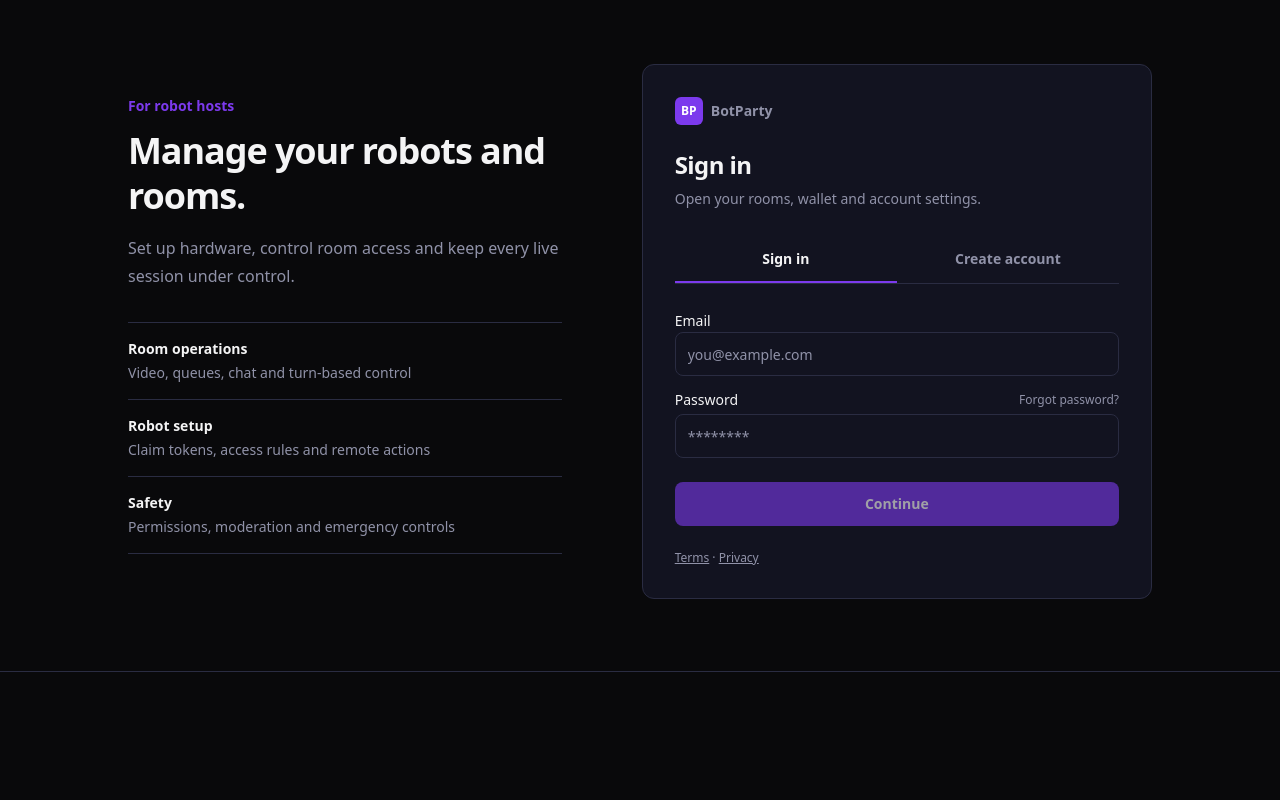
Scenario: loads no validation on mount; keyboard focus loads the original schemas
Expected: the button "Continue" is disabled, [675,482,1119,526]
Type "viewer@example.com" into the field labelled "Email". click: (897, 354)
box: [675,332,1119,376]
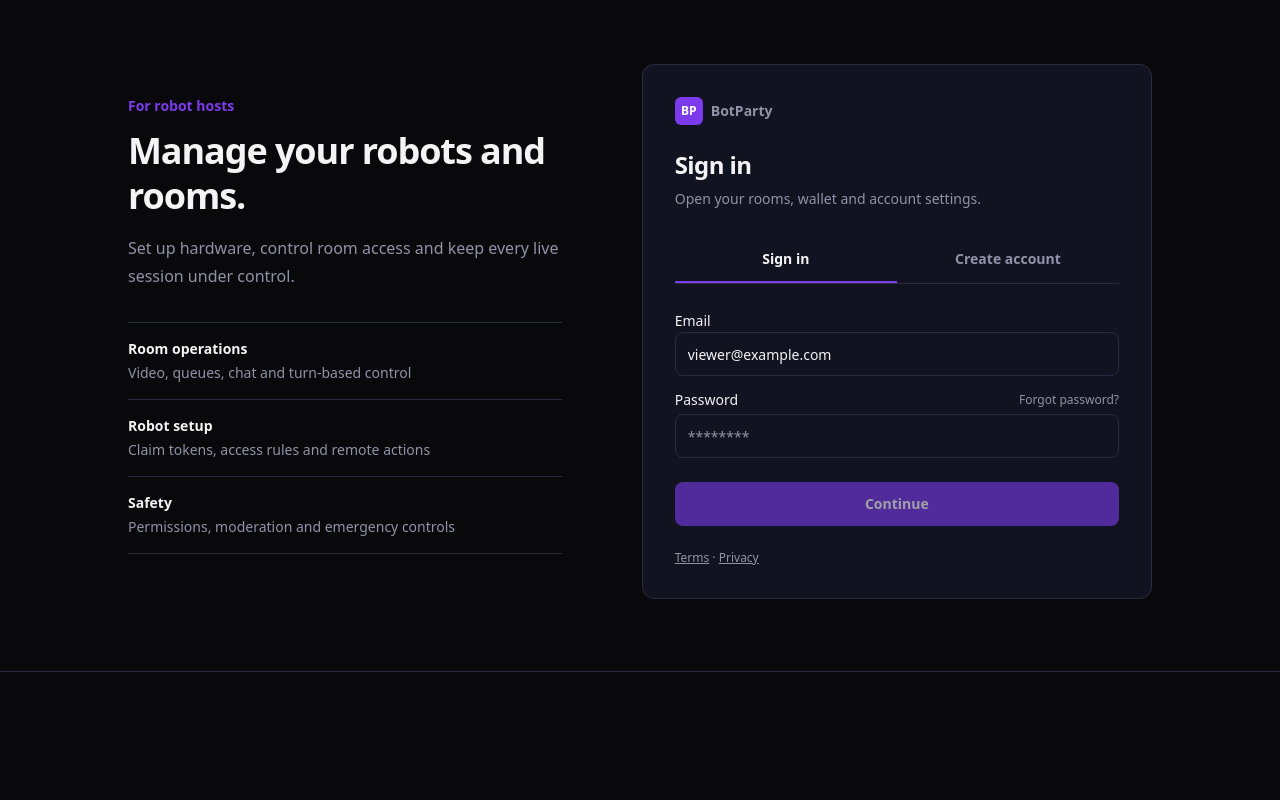
Type "valid-password" into the password field labelled "Password". click: (897, 436)
box: [675,414,1119,458]
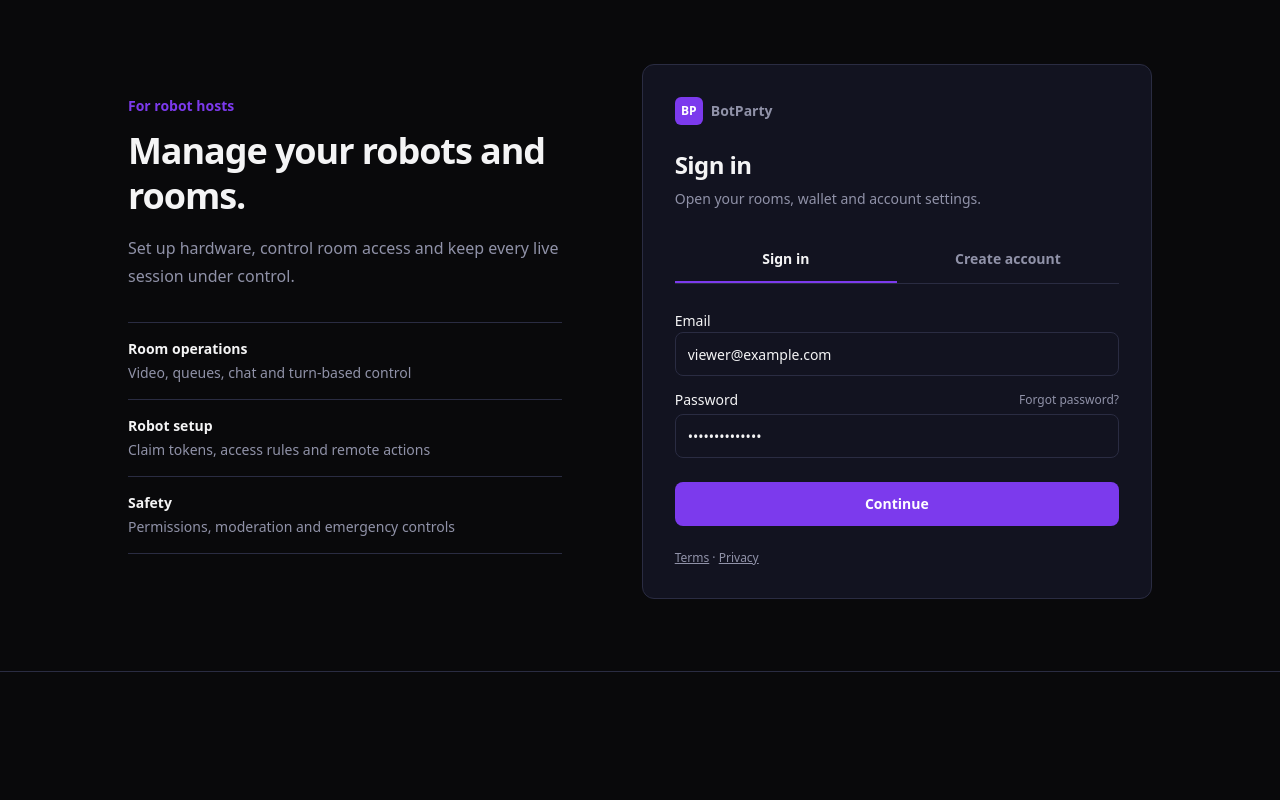
Expected: the button "Continue" is enabled, [675,482,1119,526]
